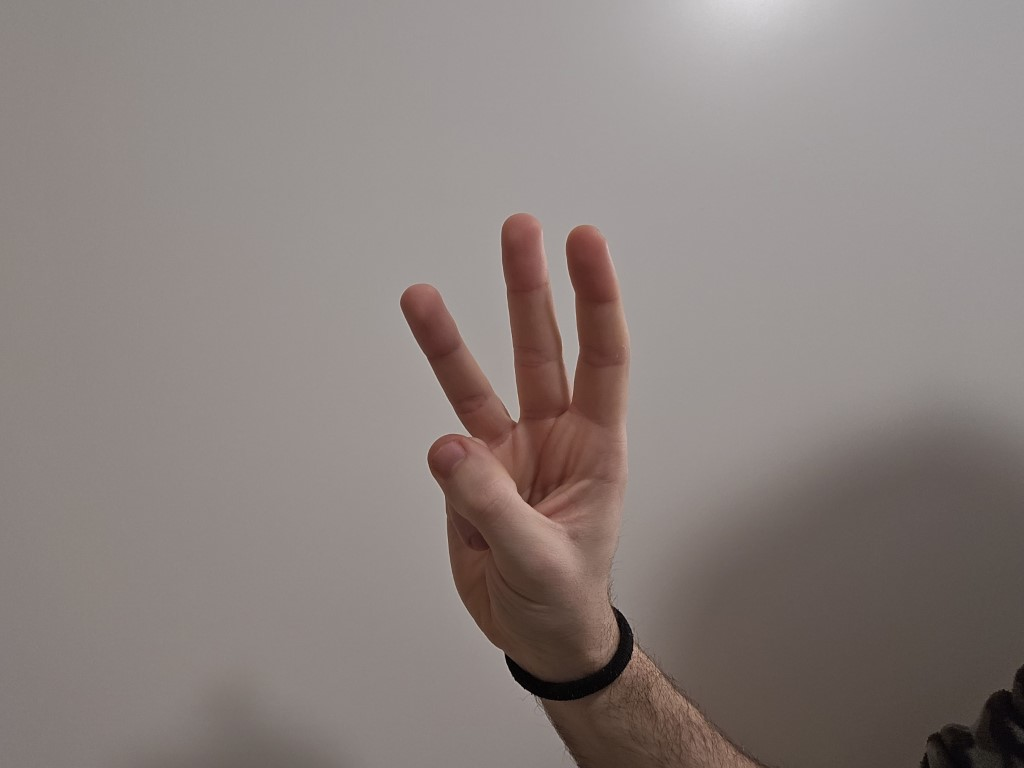w: (341, 184, 678, 648)
